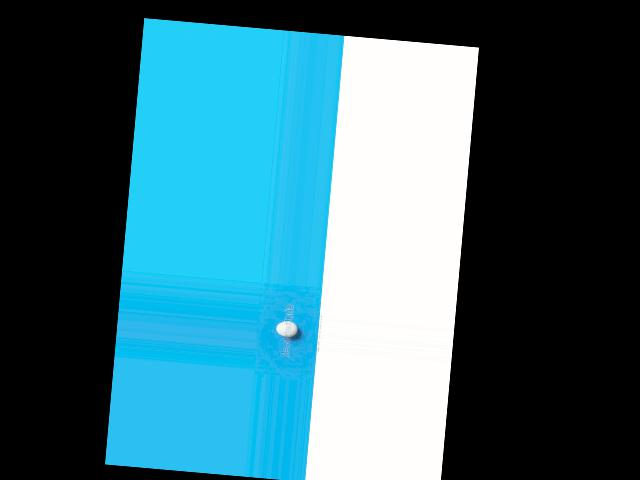egg: (275, 320, 298, 338)
